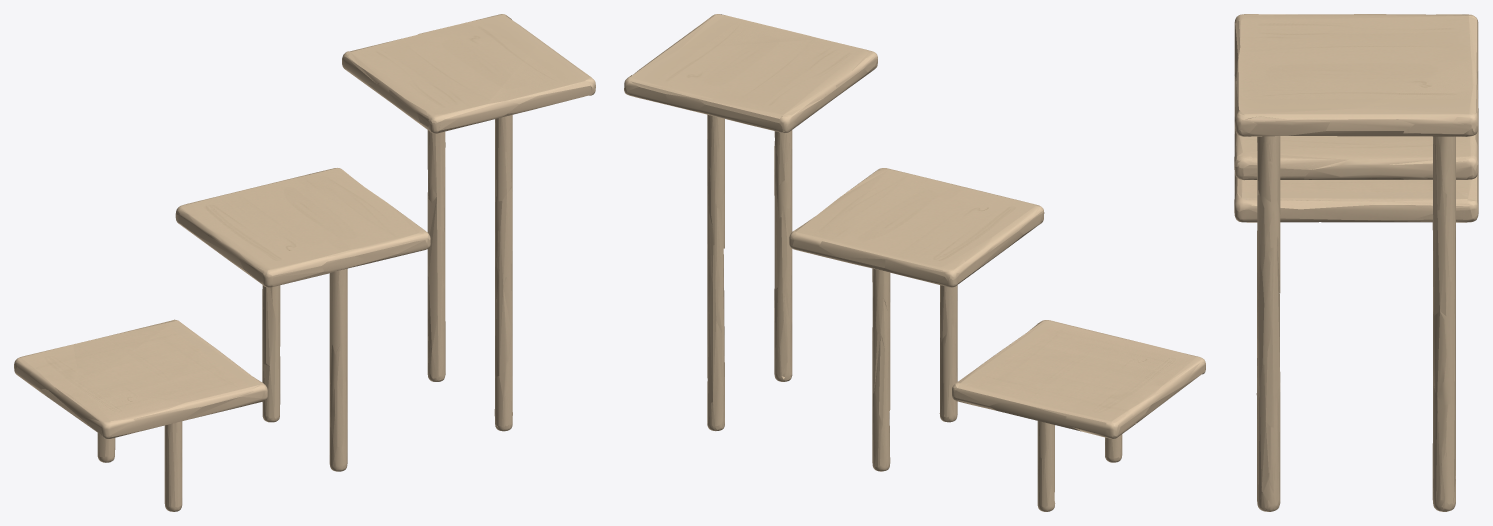
The model's file is raw_plant_step_3.glb.
3 renders of one model, left to right at view 1: azimuth 30°, elevation 25°; view 2: azimuth 150°, elevation 25°; view 3: azimuth 270°, elevation 25°, orthographic. The views are drawn at different scales.
Bounding box in the file's own units: 1.9 × 1.25 × 0.6247.
1 material, 1 textured.
